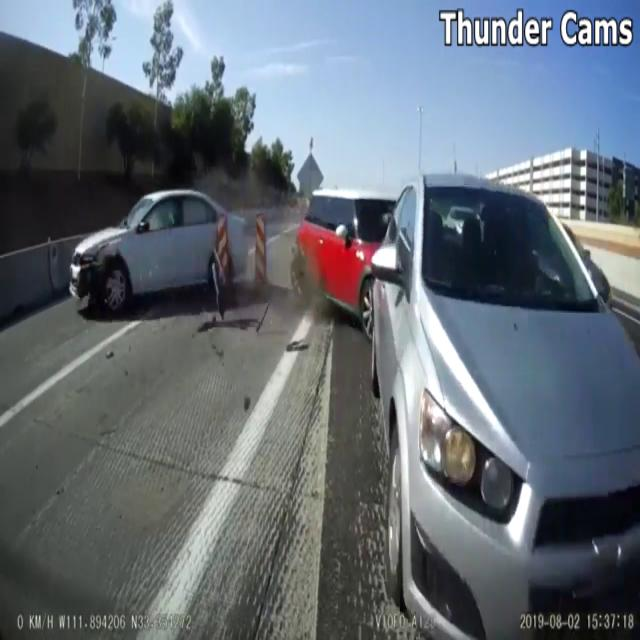accident: (65, 160, 270, 336), (290, 168, 438, 378)
